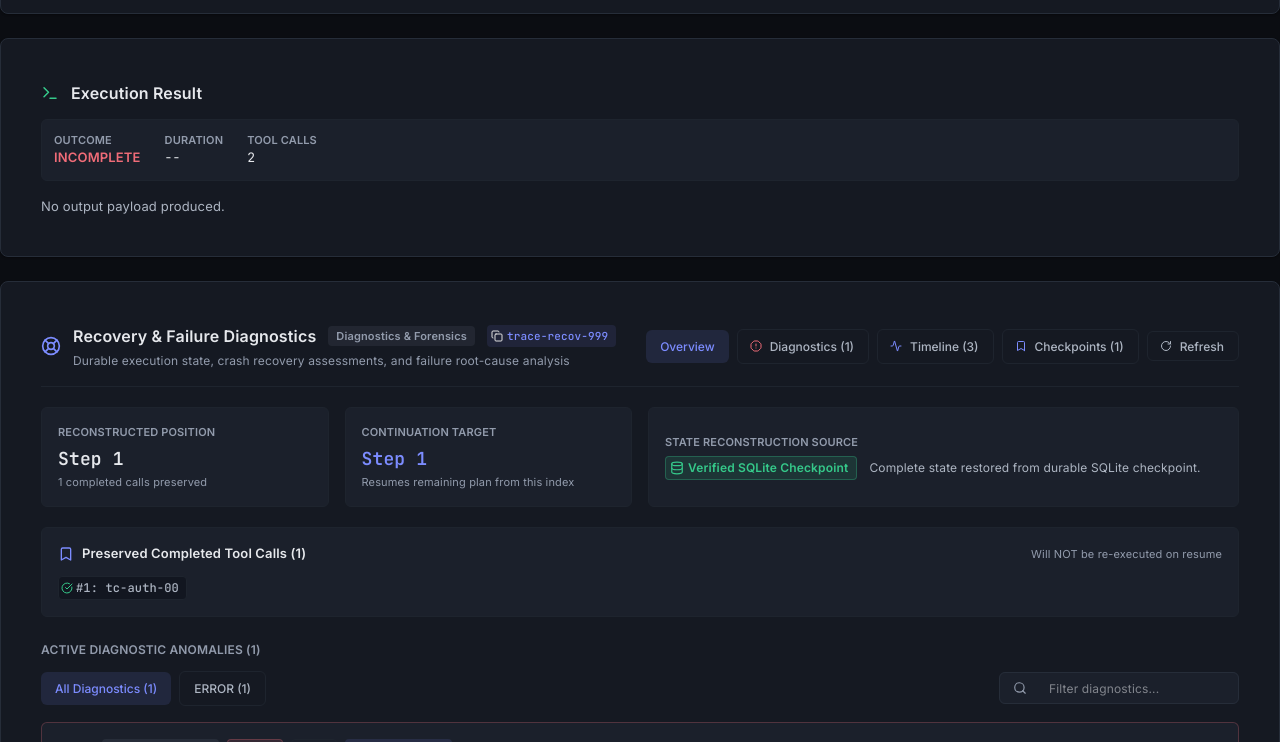
Test: Recovery & Diagnostics Integration (M9.6) › renders recovery assessment banner and recovery inspector for a failed task
(page scrolled)
Expected: the heading "Recovery & Failure Diagnostics" is shown, [73,322,316,350]
Expected: the text "trace-recov-999" is shown, [499,328,616,344]
// Switch to Diagnostics tab
Click the button "Diagnostics (1)" at (803,346), box [737,329,869,364]
(page scrolled)
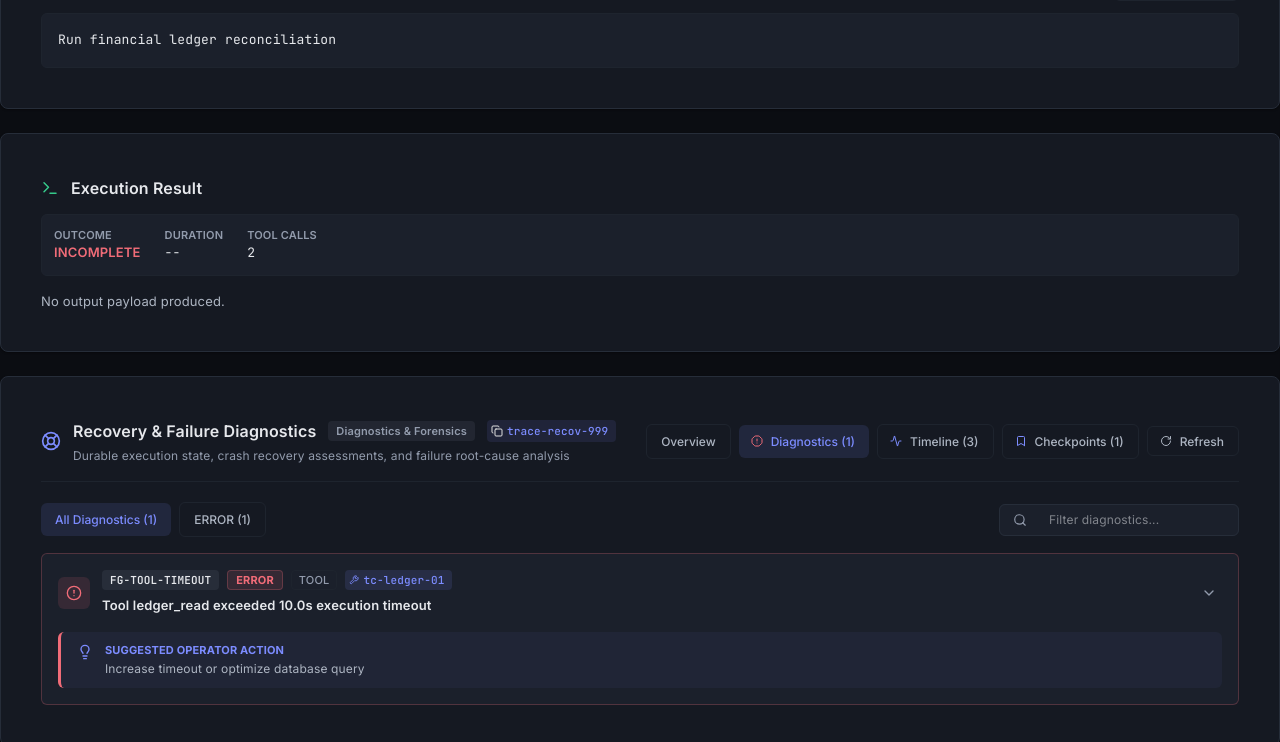
Expected: the text "FG-TOOL-TIMEOUT" is shown, [102,572,219,588]
Expected: the text "Tool ledger_read exceeded 10.0s execution timeout" is shown, [102,596,452,616]
// Switch to Timeline tab
Click the button "Timeline (3)" at (935,441), box [877,424,994,459]
(page scrolled)
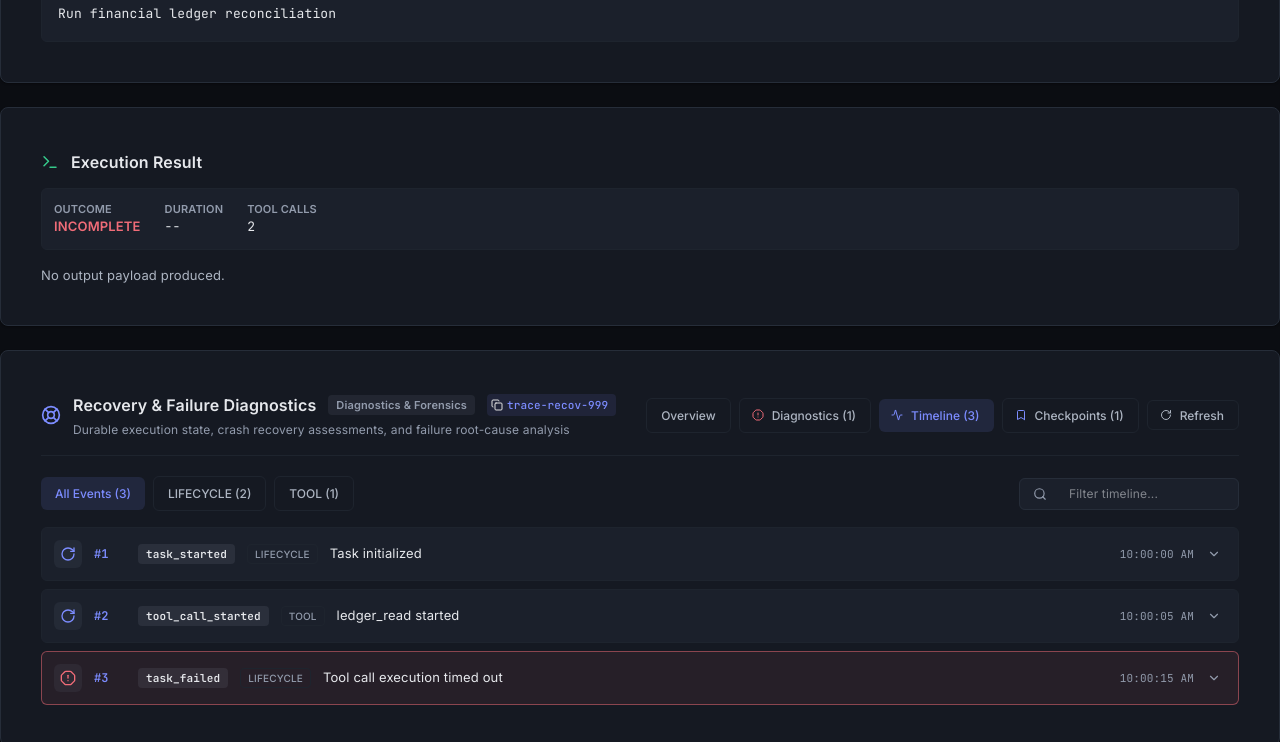
Expected: the text "Tool call execution timed out" is shown, [323,668,503,688]
// Switch to Checkpoints tab
Click the button "Checkpoints (1)" at (1070,415), box [1002,398,1139,433]
(page scrolled)
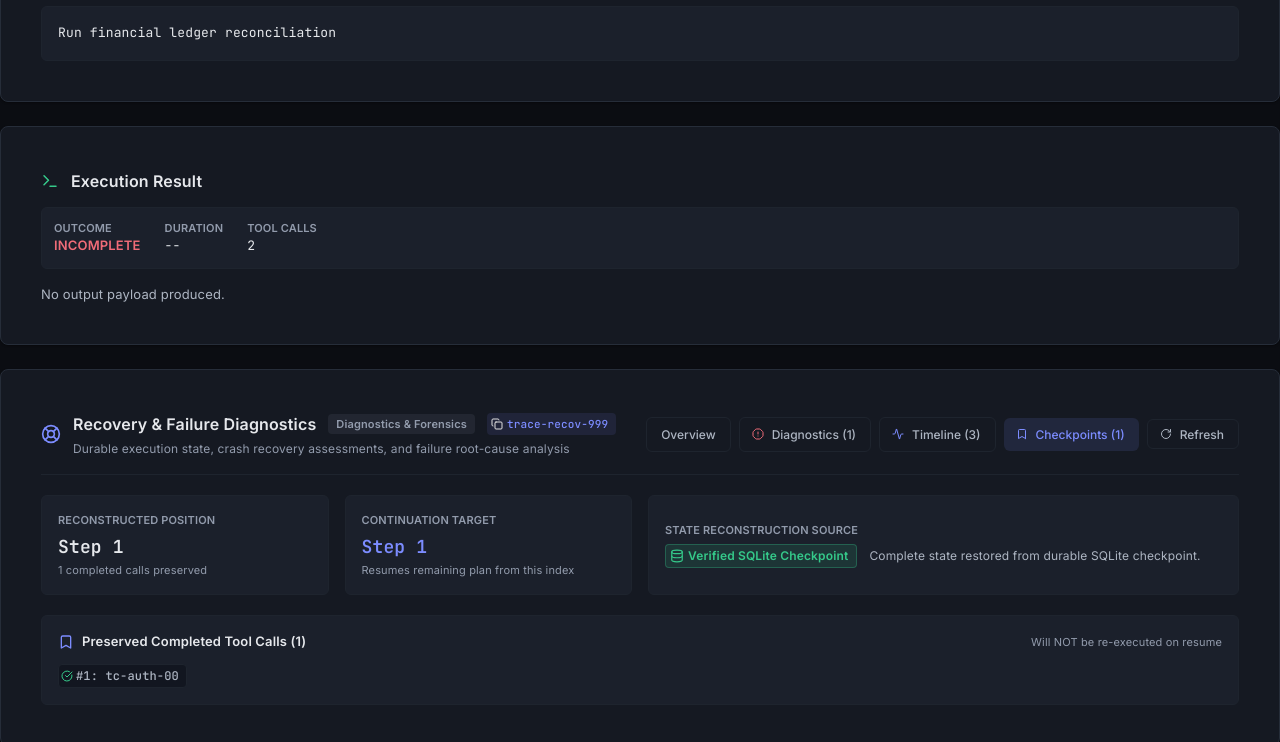
Expected: the text "Verified SQLite Checkpoint" is shown, [680,547,856,565]
Expected: the text "#1: tc-auth-00" is shown, [69,667,186,685]
